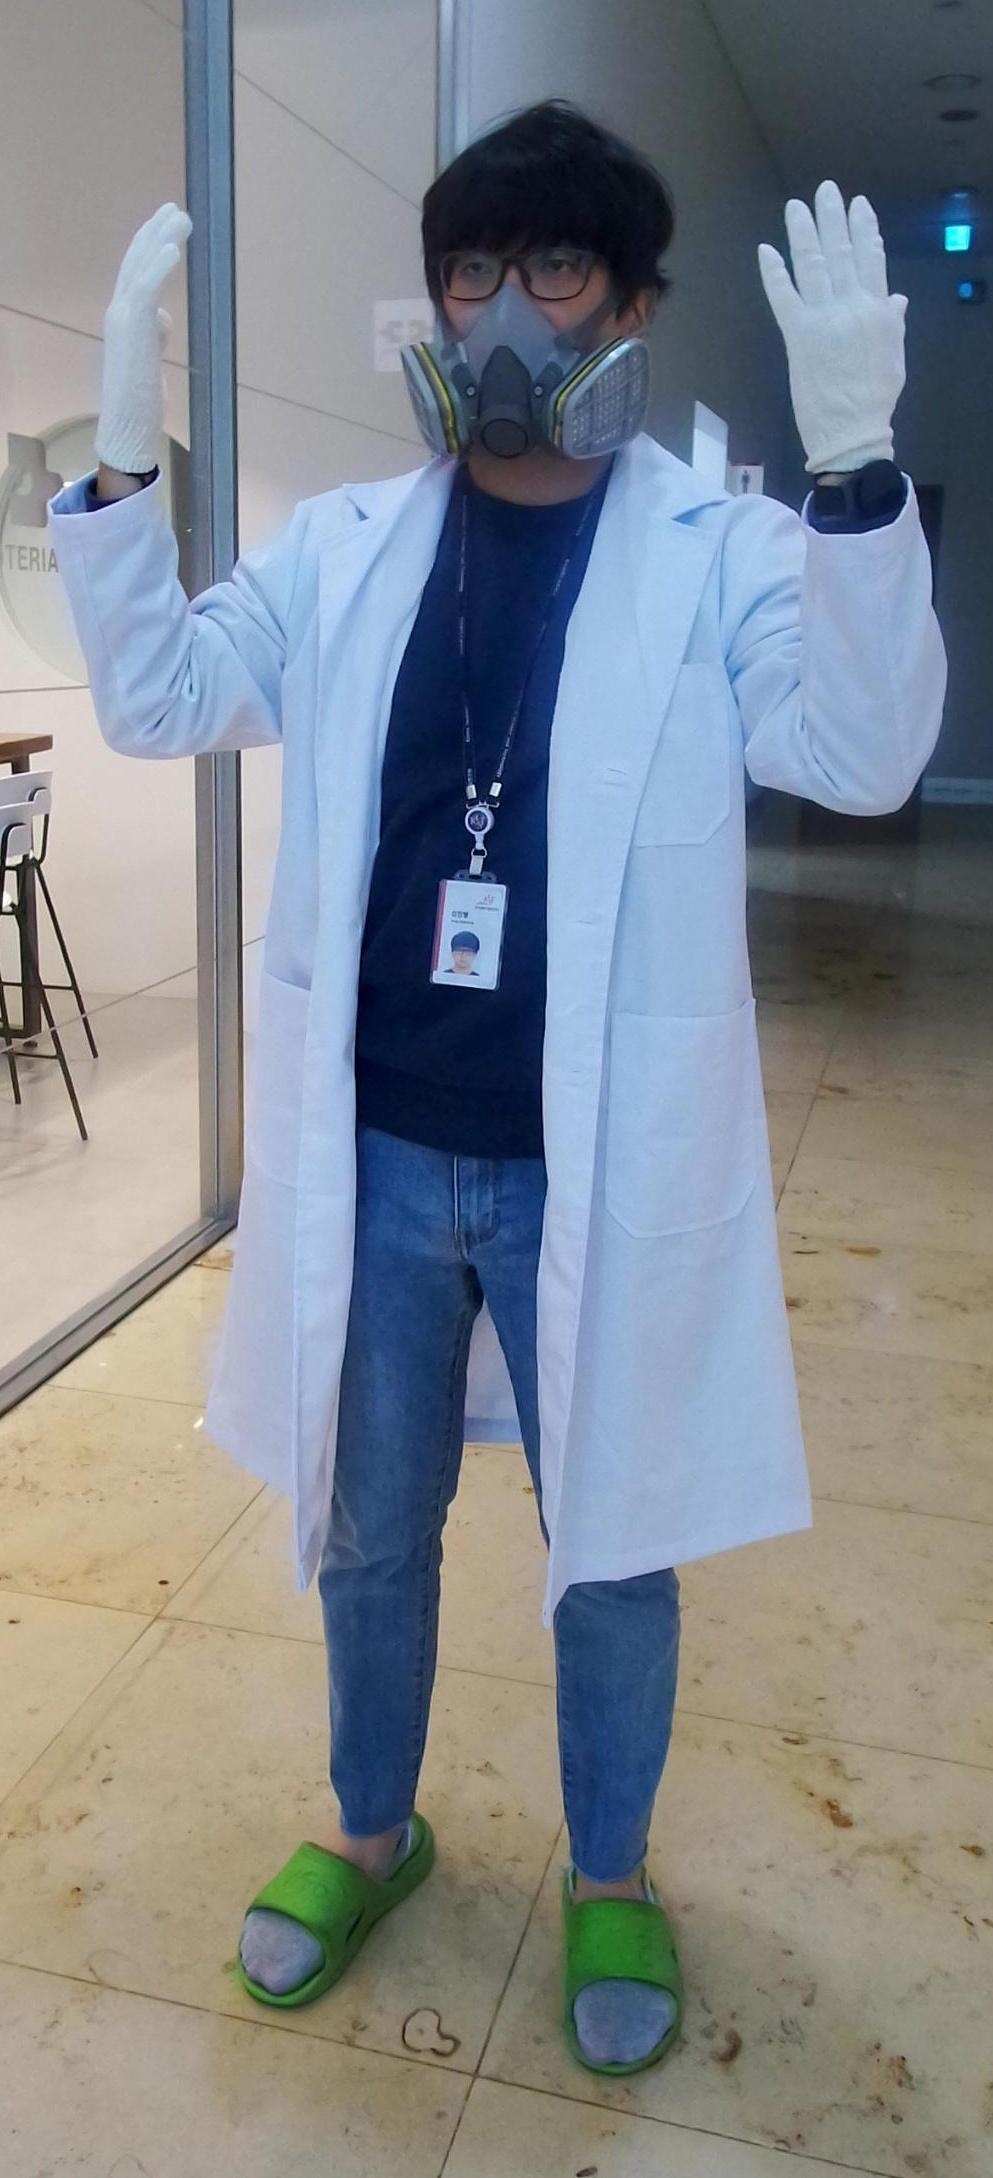lab_coat: (197, 461, 776, 1506)
